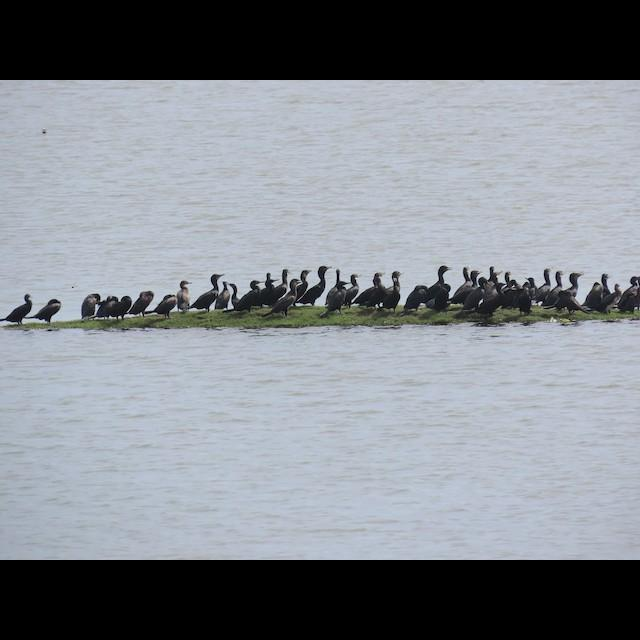cormorant: (188, 271, 228, 311), (301, 266, 333, 304), (1, 291, 35, 325)
